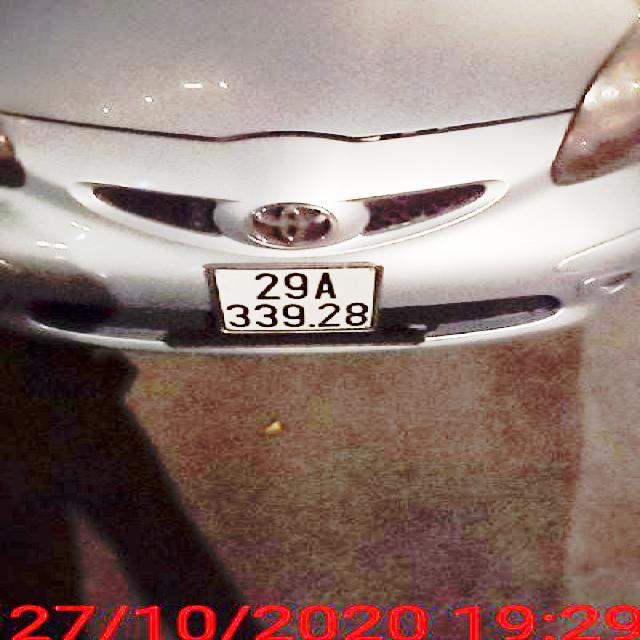license_plate: (214, 268, 382, 331)
